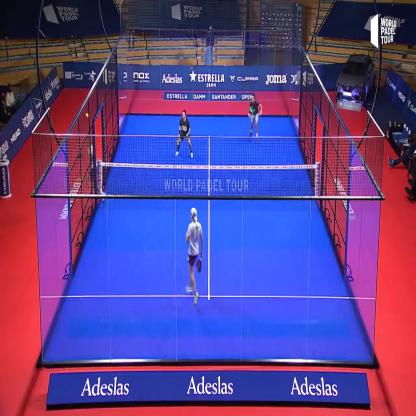ball: (84, 110, 90, 120)
